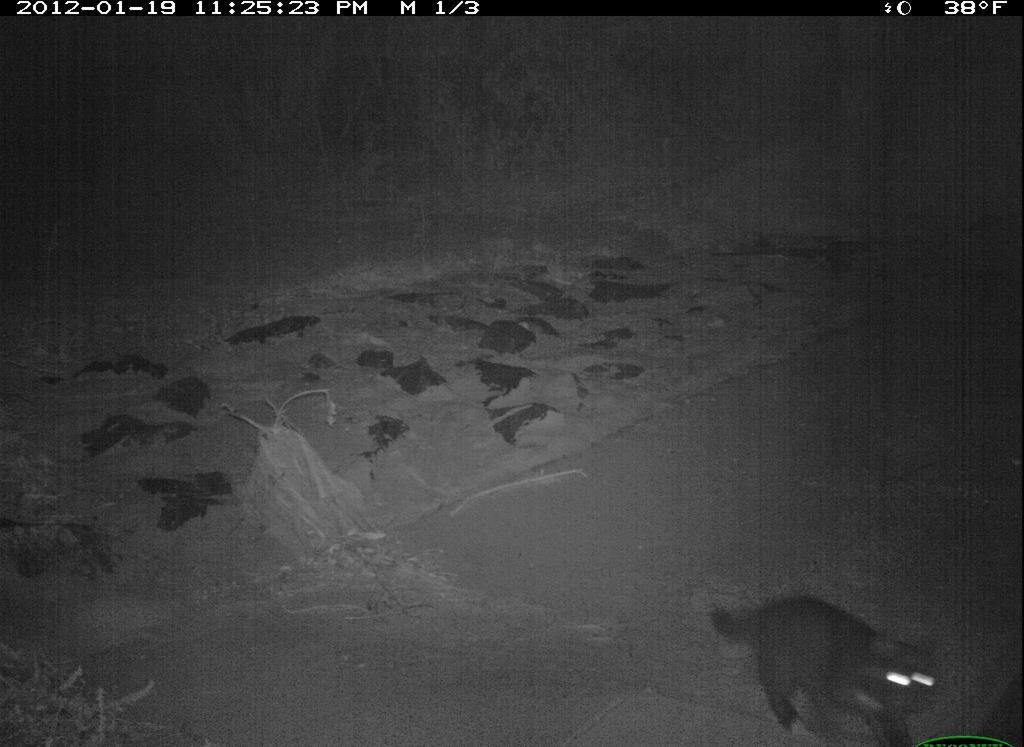cat: (696, 585, 958, 747)
